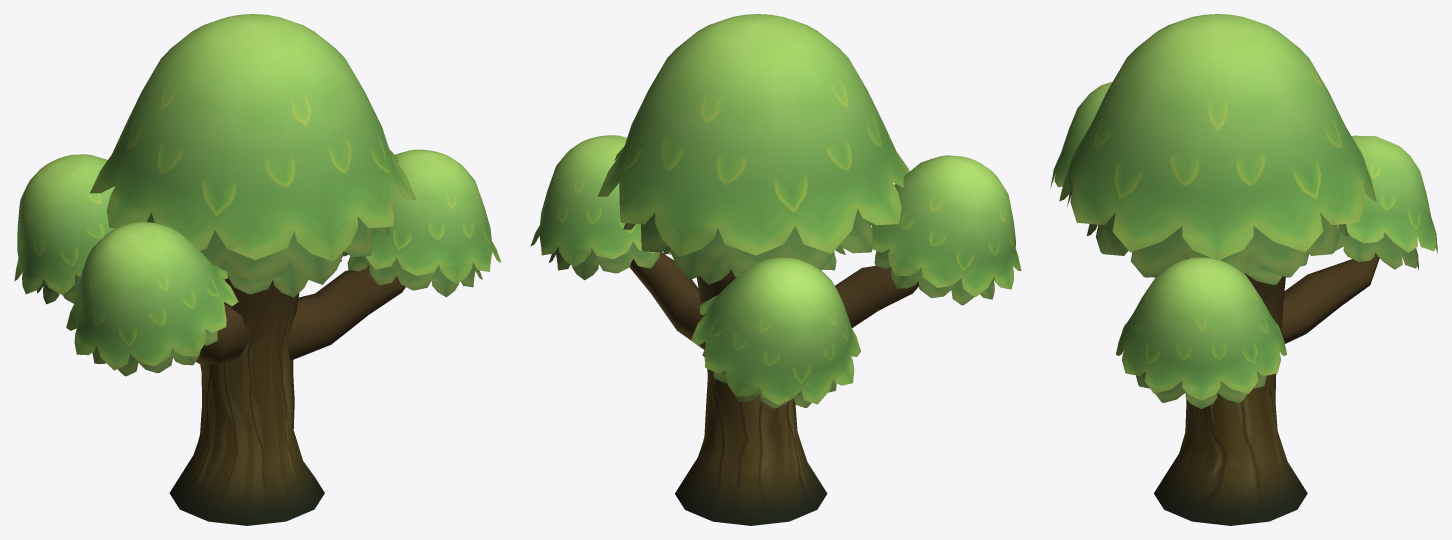
The model's file is stylized-tree.fbx.
3 views of the same model, side by side, from view 1: azimuth 30°, elevation 25°; view 2: azimuth 150°, elevation 25°; view 3: azimuth 270°, elevation 25° (orthographic).
Visible parts, largest first — view 1: Cylinder.005, Tree base, Cylinder.007, Cylinder.001, Cylinder.009, Cylinder.004, Cylinder, Cylinder.002, Cylinder.006; view 2: Cylinder.005, Tree base, Cylinder.009, Cylinder.007, Cylinder.001, Cylinder.004, Cylinder, Cylinder.006, Cylinder.008, Cylinder.002; view 3: Cylinder.005, Tree base, Cylinder.001, Cylinder.009, Cylinder.004, Cylinder.007, Cylinder.008, Cylinder, Cylinder.002.
Boxes of the visible parts, x1,y1,x2,y2 form: Cylinder.005: [90, 14, 416, 261]; Tree base: [169, 265, 405, 525]; Cylinder.007: [66, 221, 238, 370]; Cylinder.001: [343, 149, 501, 283]; Cylinder.009: [14, 154, 115, 295]; Cylinder.004: [147, 212, 390, 284]; Cylinder: [342, 251, 482, 297]; Cylinder.002: [220, 259, 341, 297]; Cylinder.006: [92, 316, 227, 376]; Cylinder.005: [597, 14, 909, 257]; Tree base: [629, 252, 918, 525]; Cylinder.009: [691, 257, 860, 404]; Cylinder.007: [868, 155, 1021, 297]; Cylinder.001: [530, 135, 654, 267]; Cylinder.004: [623, 209, 872, 279]; Cylinder: [549, 241, 671, 280]; Cylinder.006: [874, 249, 994, 305]; Cylinder.008: [702, 349, 836, 408]; Cylinder.002: [662, 244, 845, 284]; Cylinder.005: [1059, 14, 1376, 260]; Tree base: [1154, 253, 1379, 525]; Cylinder.001: [1116, 257, 1286, 400]; Cylinder.009: [1337, 135, 1437, 253]; Cylinder.004: [1087, 212, 1348, 277]; Cylinder.007: [1050, 82, 1112, 188]; Cylinder.008: [1335, 225, 1418, 270]; Cylinder: [1136, 371, 1266, 408]; Cylinder.002: [1150, 251, 1309, 284].
Bounding box in the file's own units: 926 × 936 × 703.
